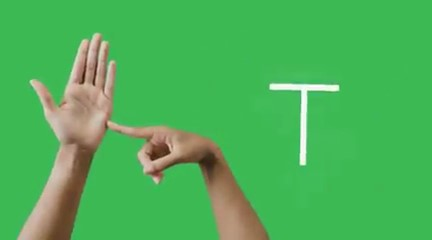T: (26, 27, 227, 191)
